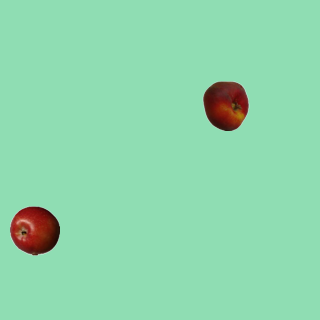Apple Braeburn: (9, 205, 59, 255)
Nectarine Flat: (200, 80, 250, 130)
